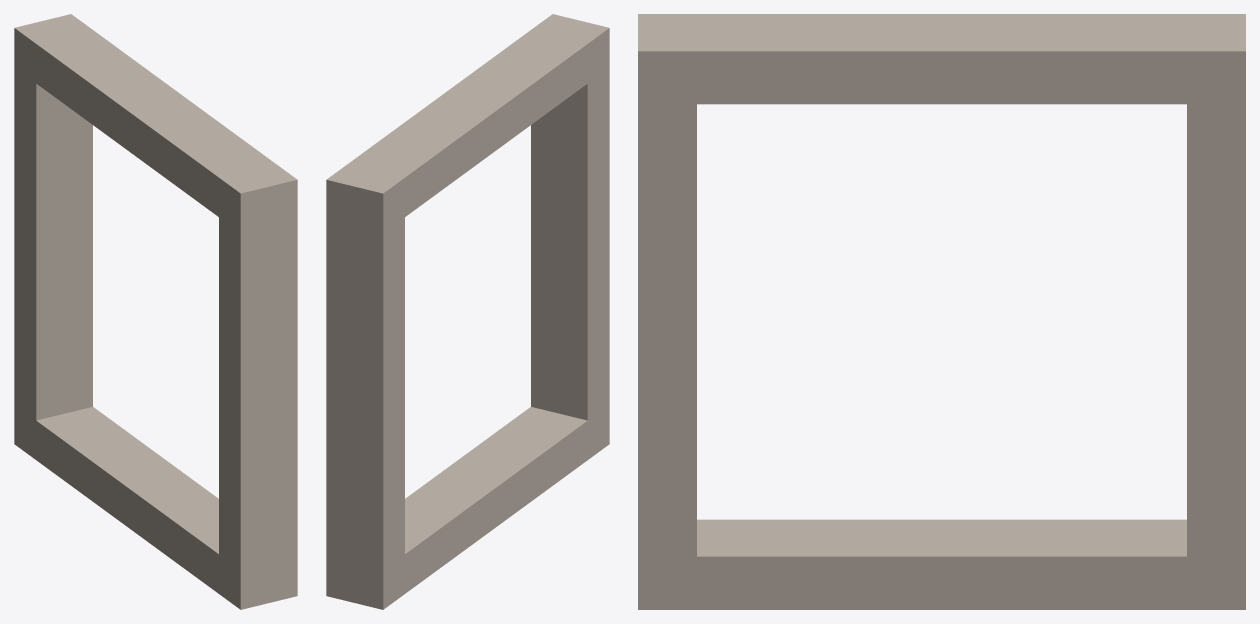
Rendered from kinkiWindowDefoult1.gltf.
3 views of the same model, side by side, from view 1: azimuth 30°, elevation 25°; view 2: azimuth 150°, elevation 25°; view 3: azimuth 270°, elevation 25° (orthographic). The views are drawn at different scales.
Visible parts, largest first — view 1: kinkiWindowDefoult1; view 2: kinkiWindowDefoult1; view 3: kinkiWindowDefoult1.
Part boxes in pixels (x1=…): kinkiWindowDefoult1: x1=14, y1=14, x2=297, y2=609; kinkiWindowDefoult1: x1=326, y1=14, x2=609, y2=609; kinkiWindowDefoult1: x1=638, y1=14, x2=1245, y2=609.
Bounding box in the file's own units: 0.9 × 6.3 × 6.21.
